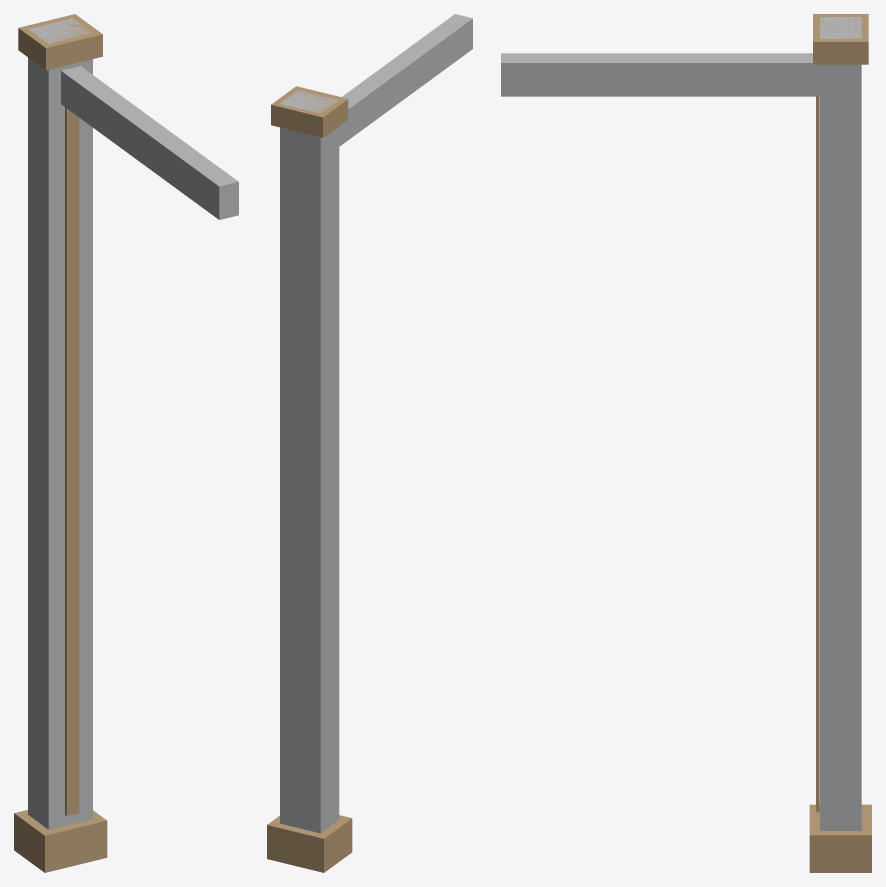
The model's file is soc_pillar.fbx.
3 views of the same model, side by side, from view 1: azimuth 30°, elevation 25°; view 2: azimuth 150°, elevation 25°; view 3: azimuth 270°, elevation 25° (orthographic). The views are drawn at different scales.
Parts seen in each view (by area): view 1: metal_1, trim_1; view 2: metal_1, trim_1; view 3: metal_1, trim_1.
Part boxes in pixels (x1,y1,x2,y2): metal_1: (28,18,238,829); trim_1: (14,14,107,872); metal_1: (280,14,472,833); trim_1: (267,86,352,872); metal_1: (501,17,861,830); trim_1: (809,14,871,872).
Size of the model in its own units: 0.35 by 4.42 by 1.79.
